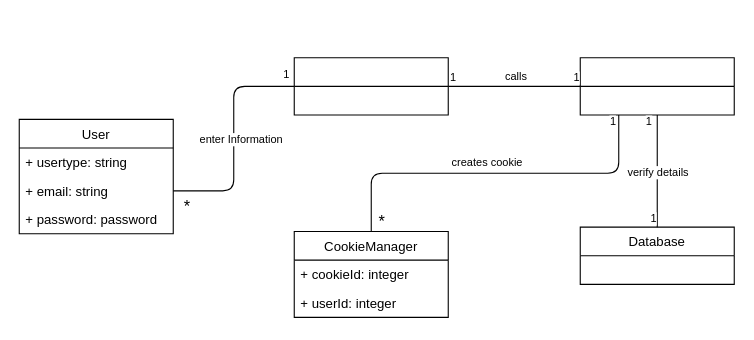
Some shapes in this 754 by 340 pixel diagram are drawn without their labels. The centre of each missing label's shape, as x and y in pixels:
"API" goes at point 656,86.
"UI" goes at point 370,86.
